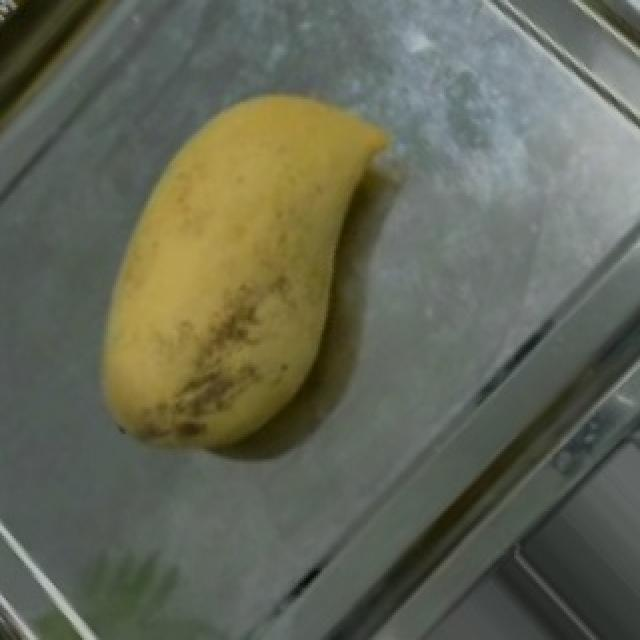fruit: (68, 32, 450, 442)
